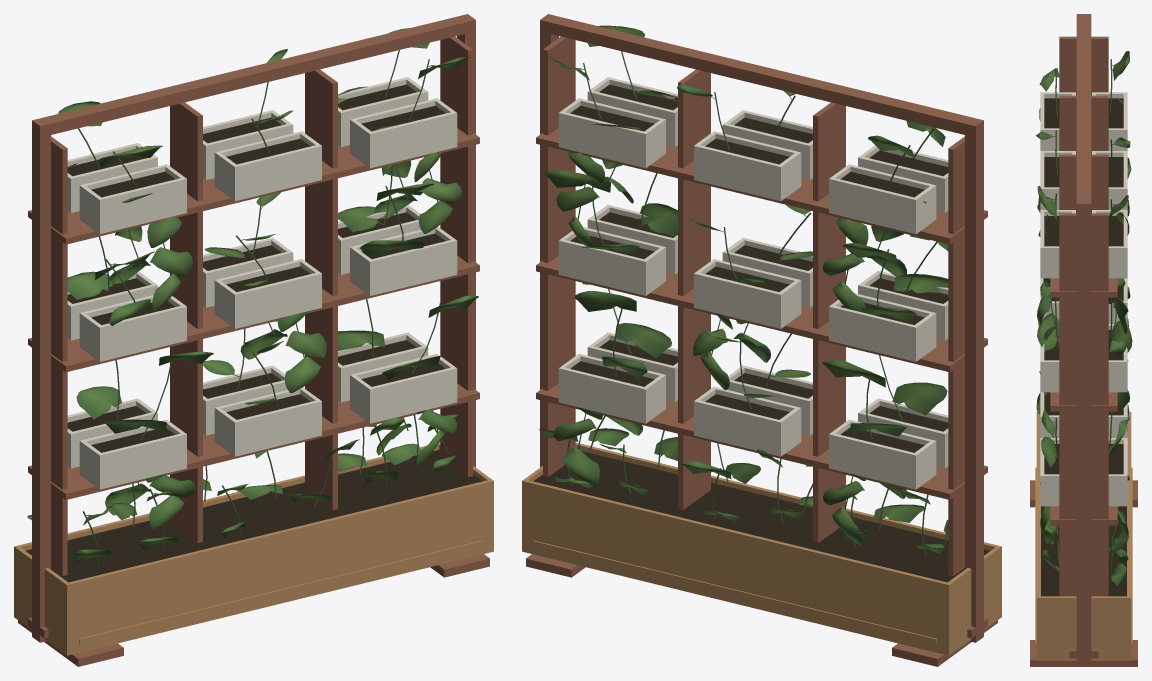
Rendered from botanicalDivider-2.glb.
The picture shows the model from 3 angles, left to right: view 1: azimuth 30°, elevation 25°; view 2: azimuth 150°, elevation 25°; view 3: azimuth 270°, elevation 25°; orthographic projection. The views are drawn at different scales.
Parts seen in each view (by area): view 1: Botanical_powdercoat, Botanical_ceramic, Botanical_frame_finish, Botanical_recessed_soil, Botanical_living_foliage, Botanical_connected_stems; view 2: Botanical_powdercoat, Botanical_ceramic, Botanical_frame_finish, Botanical_recessed_soil, Botanical_living_foliage, Botanical_connected_stems; view 3: Botanical_powdercoat, Botanical_ceramic, Botanical_frame_finish, Botanical_recessed_soil, Botanical_living_foliage, Botanical_connected_stems.
Boxes of the visible parts, x1,y1,x2,y2 form: Botanical_powdercoat: (18, 14, 489, 666); Botanical_ceramic: (67, 77, 457, 489); Botanical_frame_finish: (14, 442, 493, 655); Botanical_recessed_soil: (25, 84, 482, 582); Botanical_living_foliage: (27, 28, 478, 562); Botanical_connected_stems: (78, 50, 452, 565); Botanical_powdercoat: (526, 14, 997, 666); Botanical_ceramic: (558, 77, 948, 489); Botanical_frame_finish: (522, 442, 1001, 655); Botanical_recessed_soil: (533, 84, 990, 582); Botanical_living_foliage: (539, 25, 948, 553); Botanical_connected_stems: (567, 51, 948, 556); Botanical_powdercoat: (1030, 14, 1137, 666); Botanical_ceramic: (1040, 92, 1127, 506); Botanical_frame_finish: (1035, 412, 1132, 660); Botanical_recessed_soil: (1041, 98, 1126, 596); Botanical_living_foliage: (1036, 51, 1132, 585); Botanical_connected_stems: (1050, 59, 1116, 585).
Bounding box in the file's own units: 2 × 2.3 × 0.4798.
